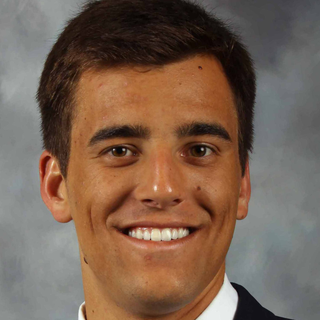eye: (95, 140, 142, 164), (180, 139, 224, 164)
